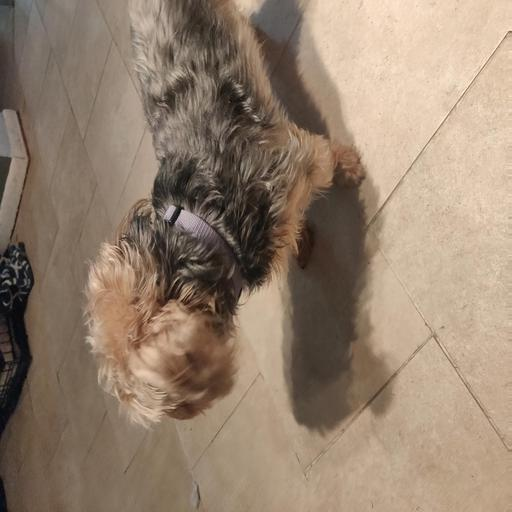dog: (67, 112, 392, 437)
